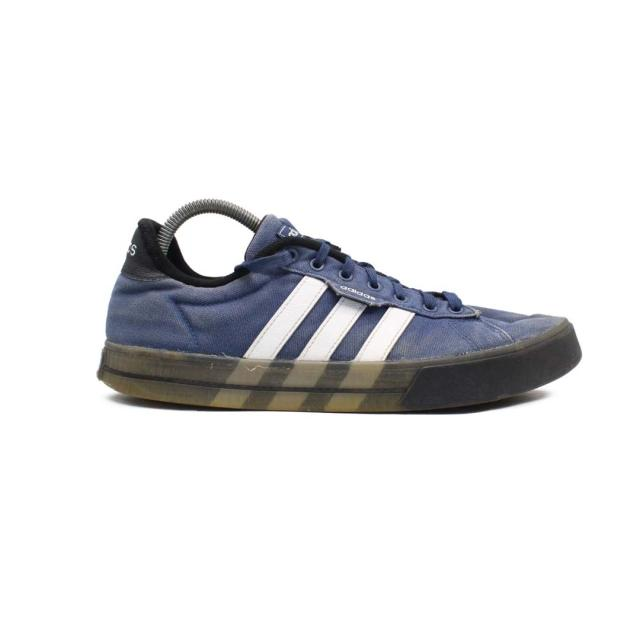heel: (102, 219, 208, 353)
midsole: (96, 318, 584, 415)
uppersole: (206, 211, 564, 366)
